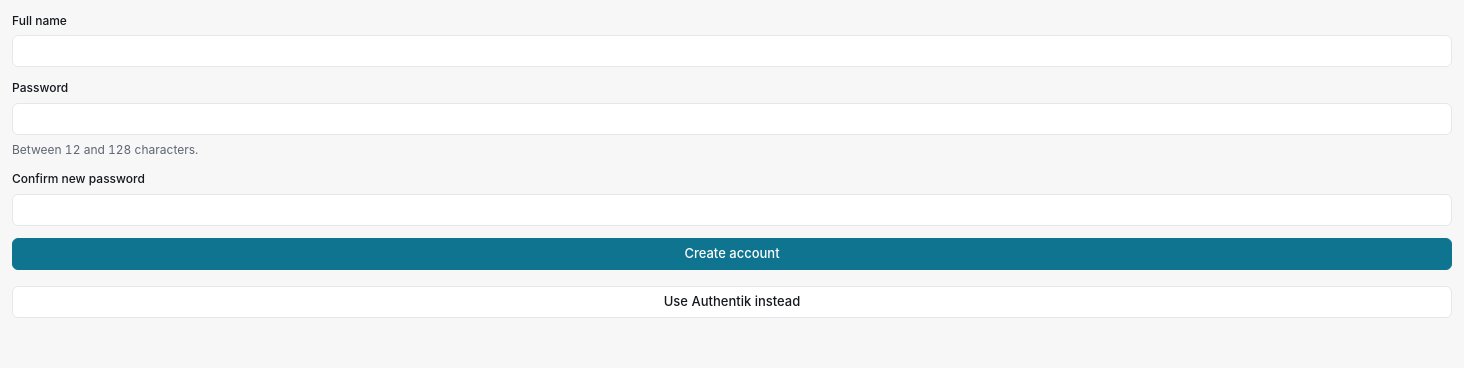
InviteForm › shows a catalogued error instead of crashing when the action rejects unexpectedly
Type "Giulia Rossi" into the field labelled "Full name" at (732, 51), box [12, 35, 1452, 67]
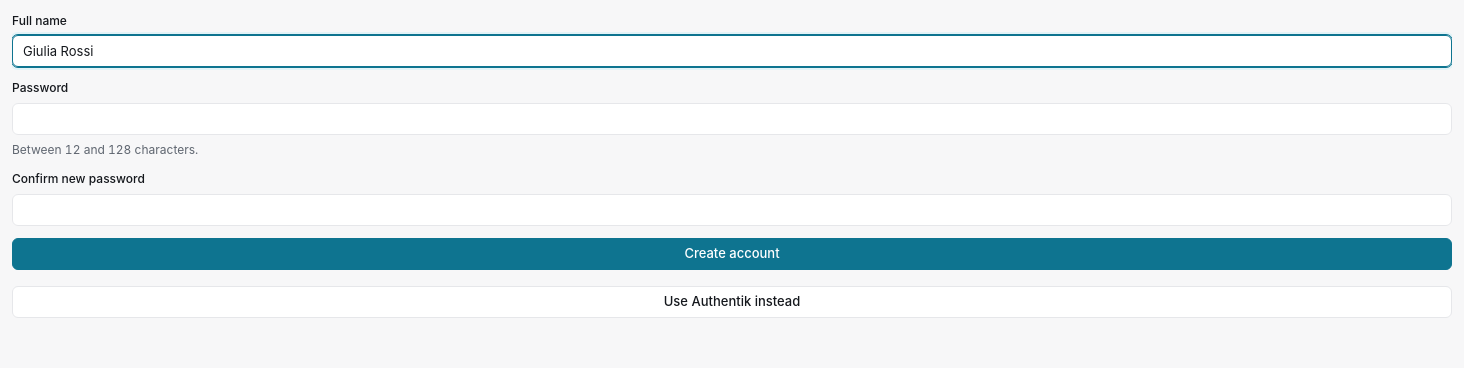
Type "long-enough-password" into the password field labelled "Password" at (732, 119), box [12, 103, 1452, 135]
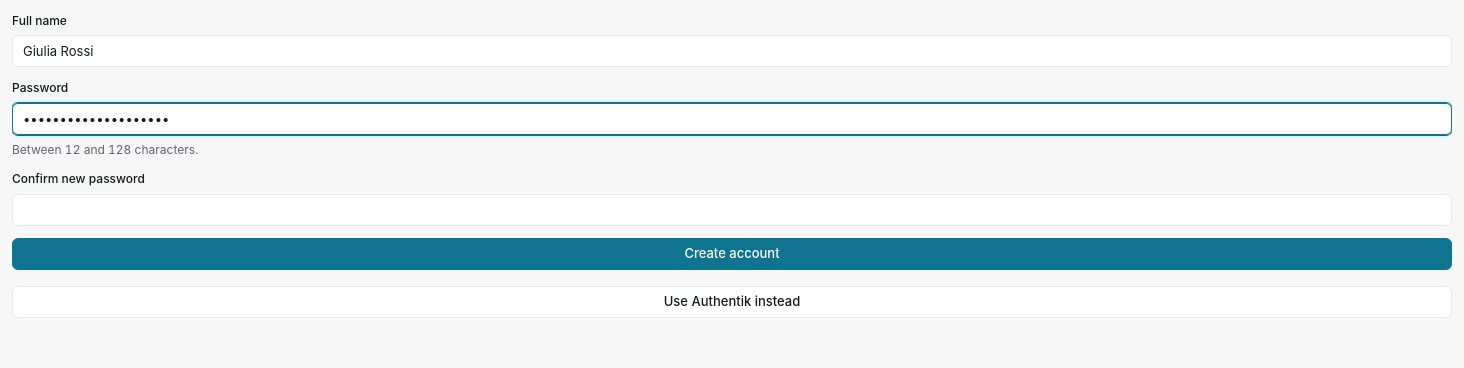
Type "long-enough-password" into the password field labelled "Confirm new password" at (732, 210), box [12, 194, 1452, 226]
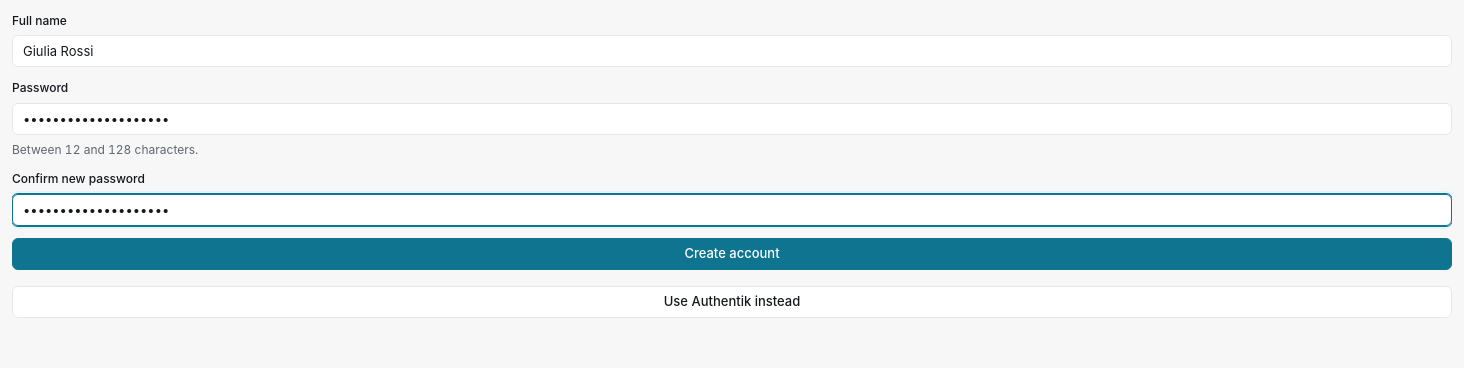
Click the button "Create account" at (732, 254), box [12, 238, 1452, 270]
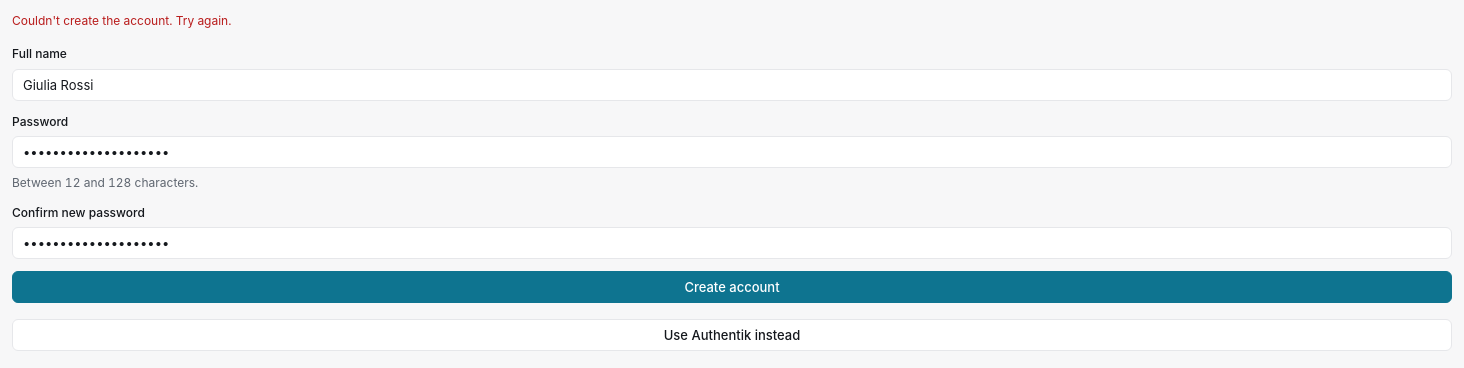
Expected: the button "Create account" is enabled, [12, 271, 1452, 303]
Expected: the message reads "Couldn't create the account. Try again.", [12, 13, 231, 28]
